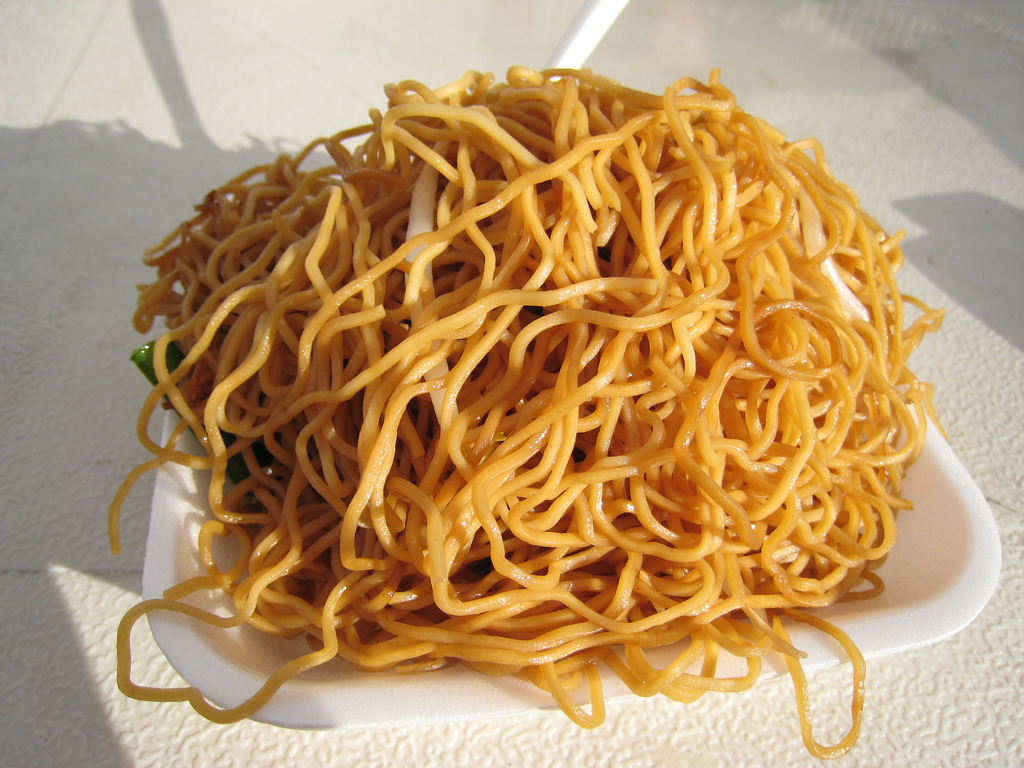plain spaghetti: (104, 93, 913, 732)
